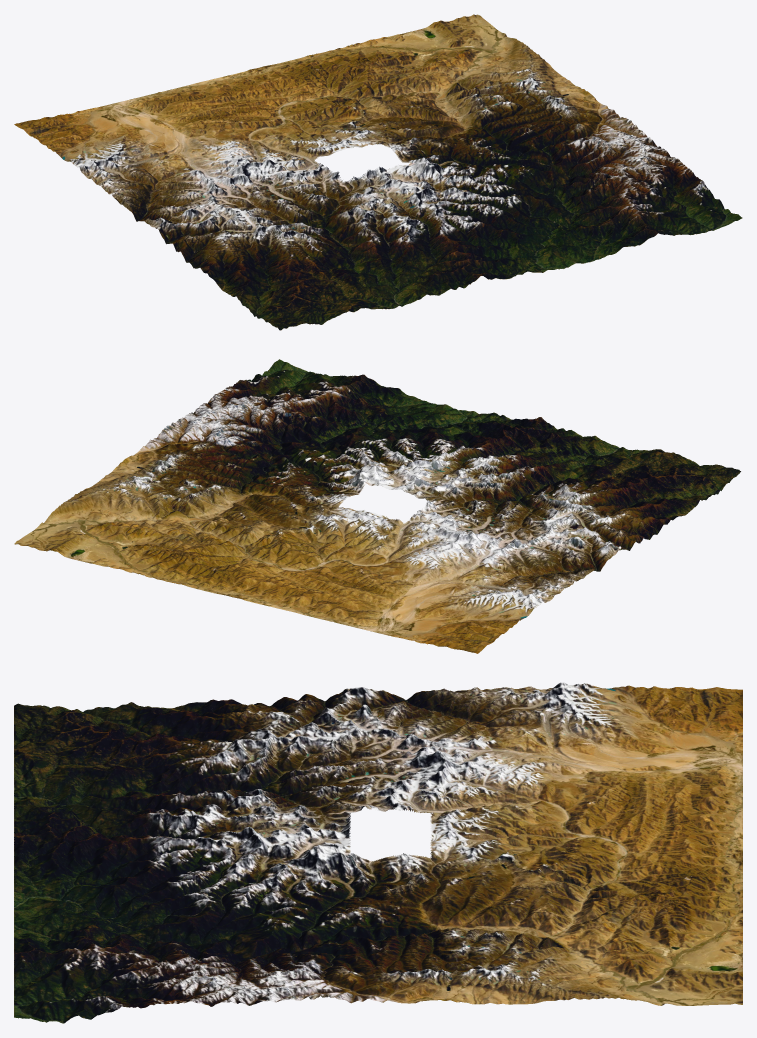
Rendered from khumbu_wide_opt.glb.
3 views of the same model, one above another, from view 1: azimuth 30°, elevation 25°; view 2: azimuth 150°, elevation 25°; view 3: azimuth 270°, elevation 25° (orthographic). The views are drawn at different scales.
Parts seen in each view (by area): view 1: world; view 2: world; view 3: world.
Part boxes in pixels (<box>): world: <box>14,14,742,330</box>; world: <box>14,359,740,653</box>; world: <box>14,682,742,1023</box>.
Bounding box in the file's own units: 117956 × 7862 × 116890.
1 material, 1 textured.
